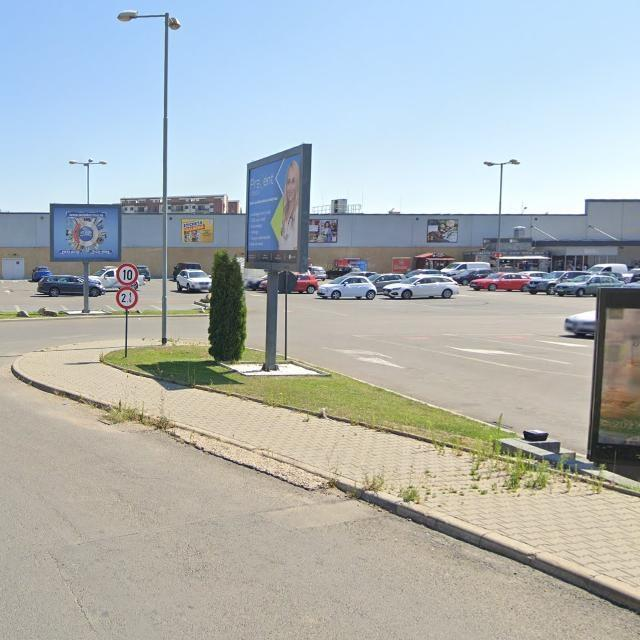forb_speed_over_10: (116, 264, 138, 286)
